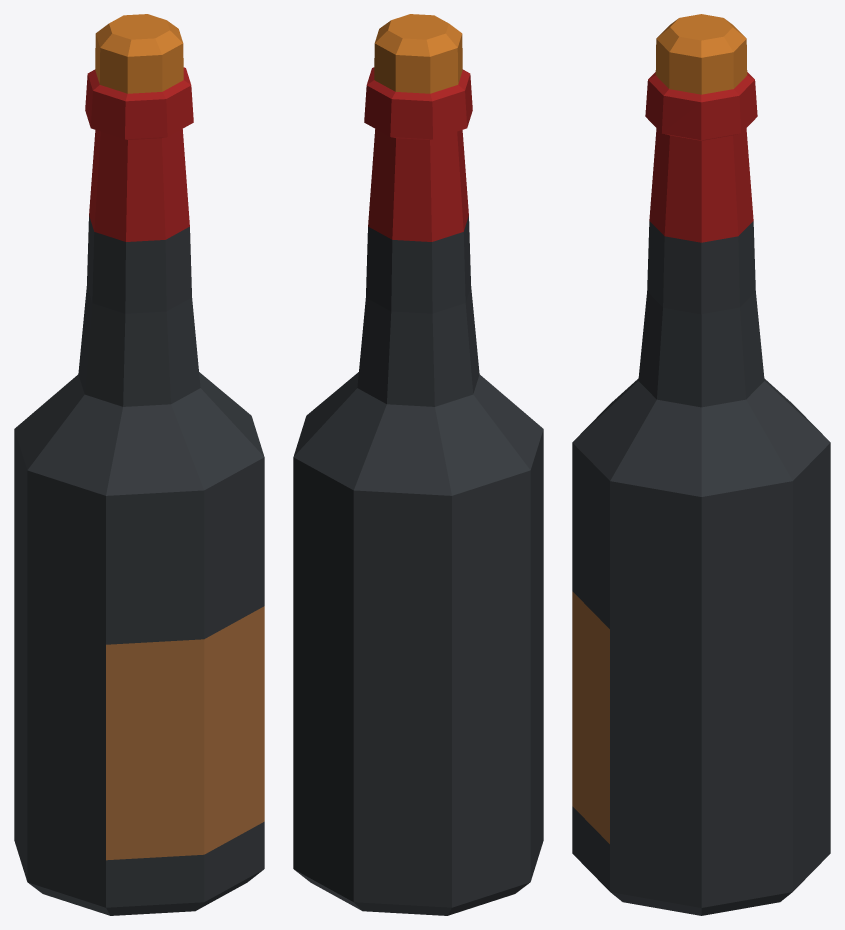
The model's file is Bottle2.obj.
3 renders of one model, left to right at view 1: azimuth 30°, elevation 25°; view 2: azimuth 150°, elevation 25°; view 3: azimuth 270°, elevation 25°, orthographic.
Parts seen in each view (by area): view 1: Bottle2_DarkGrey, Bottle2_LightBrown, Bottle2_DarkRed, Bottle2_BottleCap; view 2: Bottle2_DarkGrey, Bottle2_DarkRed, Bottle2_BottleCap; view 3: Bottle2_DarkGrey, Bottle2_DarkRed, Bottle2_LightBrown, Bottle2_BottleCap.
Boxes of the visible parts, box(x1,y1,x2,y2) form: Bottle2_DarkGrey: box(14, 215, 264, 915); Bottle2_LightBrown: box(106, 606, 264, 860); Bottle2_DarkRed: box(85, 67, 193, 241); Bottle2_BottleCap: box(95, 14, 183, 93); Bottle2_DarkGrey: box(293, 215, 543, 915); Bottle2_DarkRed: box(364, 67, 472, 241); Bottle2_BottleCap: box(374, 14, 462, 93); Bottle2_DarkGrey: box(572, 221, 830, 915); Bottle2_DarkRed: box(645, 72, 757, 242); Bottle2_LightBrown: box(572, 591, 609, 843); Bottle2_BottleCap: box(655, 14, 747, 94).
Bounding box in the file's own units: 0.4517 × 1.62 × 0.4517.
